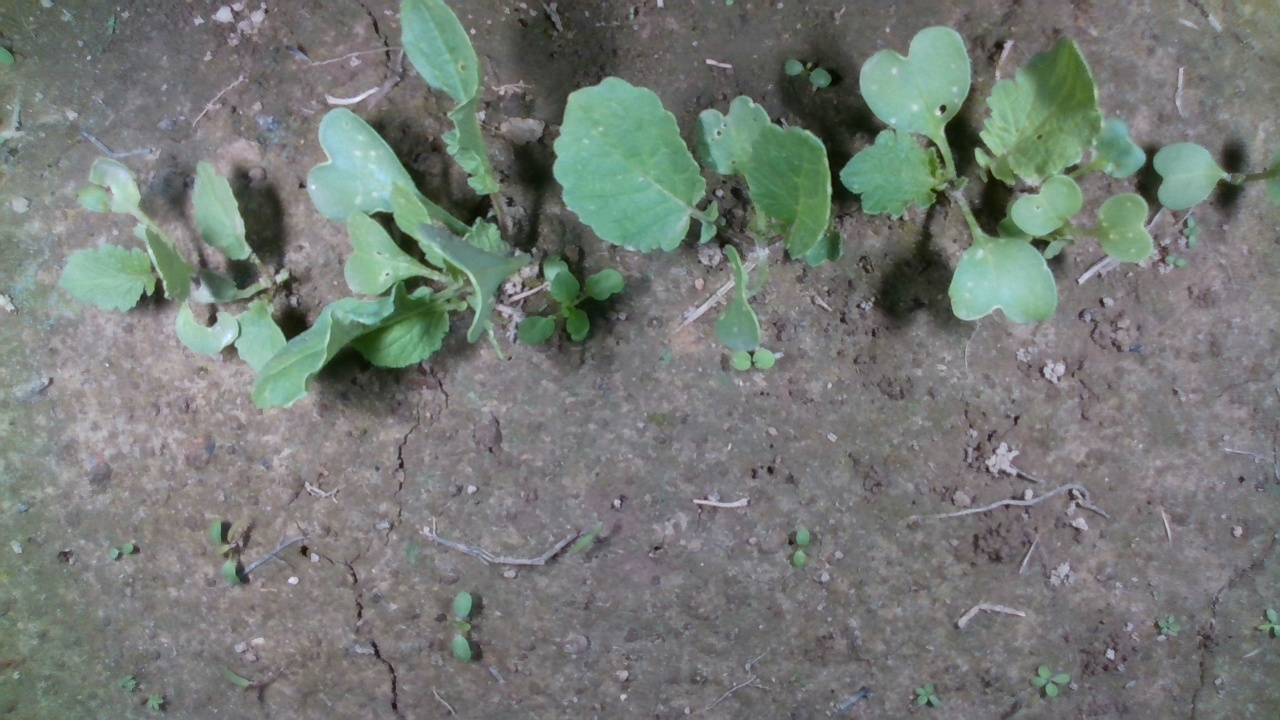weed: (206, 518, 243, 589), (450, 588, 474, 665), (782, 56, 833, 88), (1027, 664, 1071, 698), (791, 526, 812, 569), (913, 681, 943, 709), (1181, 214, 1203, 252), (1155, 612, 1180, 637), (106, 540, 136, 560), (1164, 255, 1187, 267)
